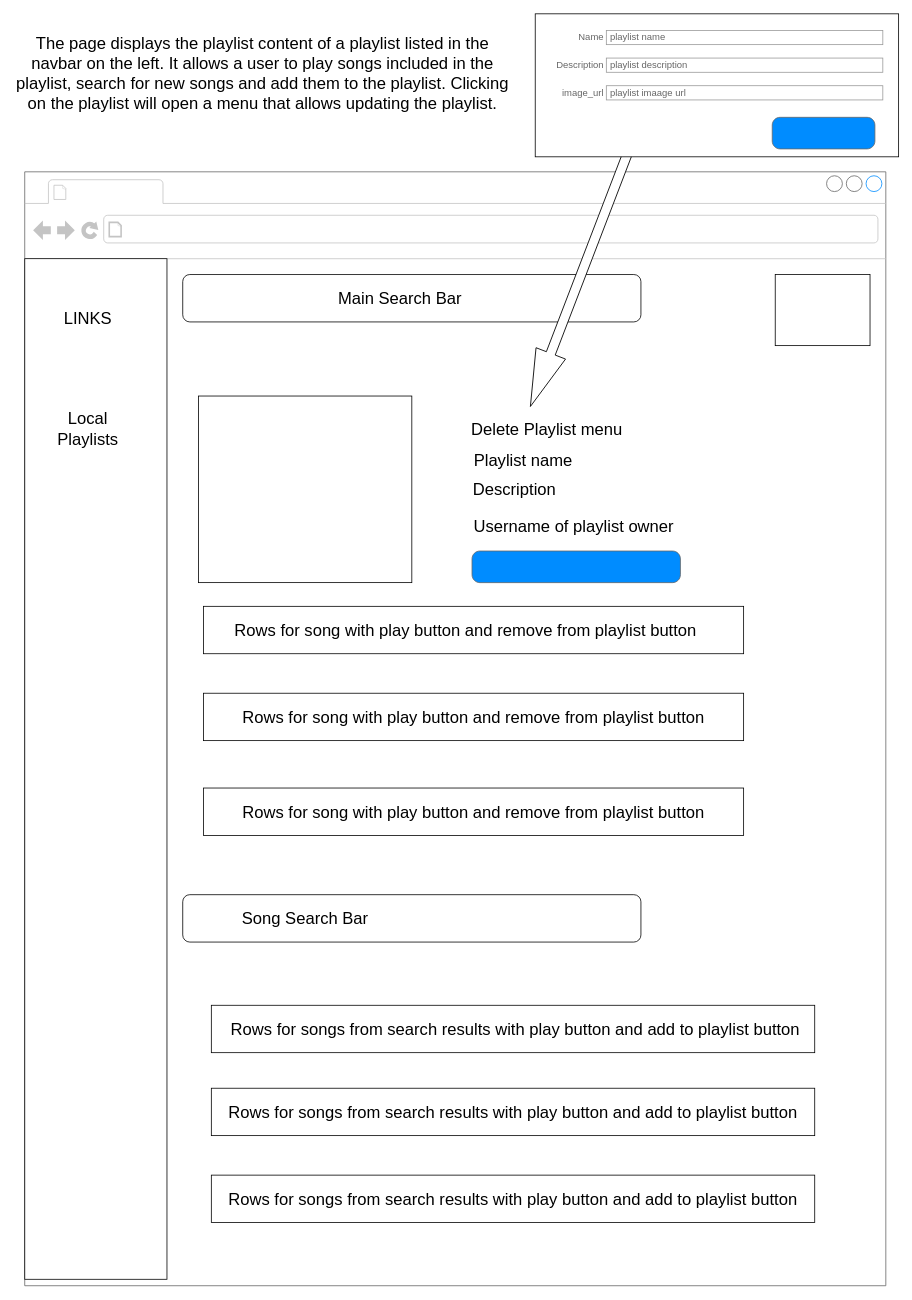
Some shapes in this 912 by 1300 pixel diagram are drawn without their labels. Each missing label, with the centre of its shape:
"Add to Spotify account" goes at point (575, 566).
"https://localhost:4000/playlists/:id" goes at point (226, 229).
"Logged in user menu" goes at point (822, 310).
"Playlist Picture" goes at point (305, 489).
"Spotify Clone" goes at point (115, 191).
"update playlist" goes at point (823, 133).
